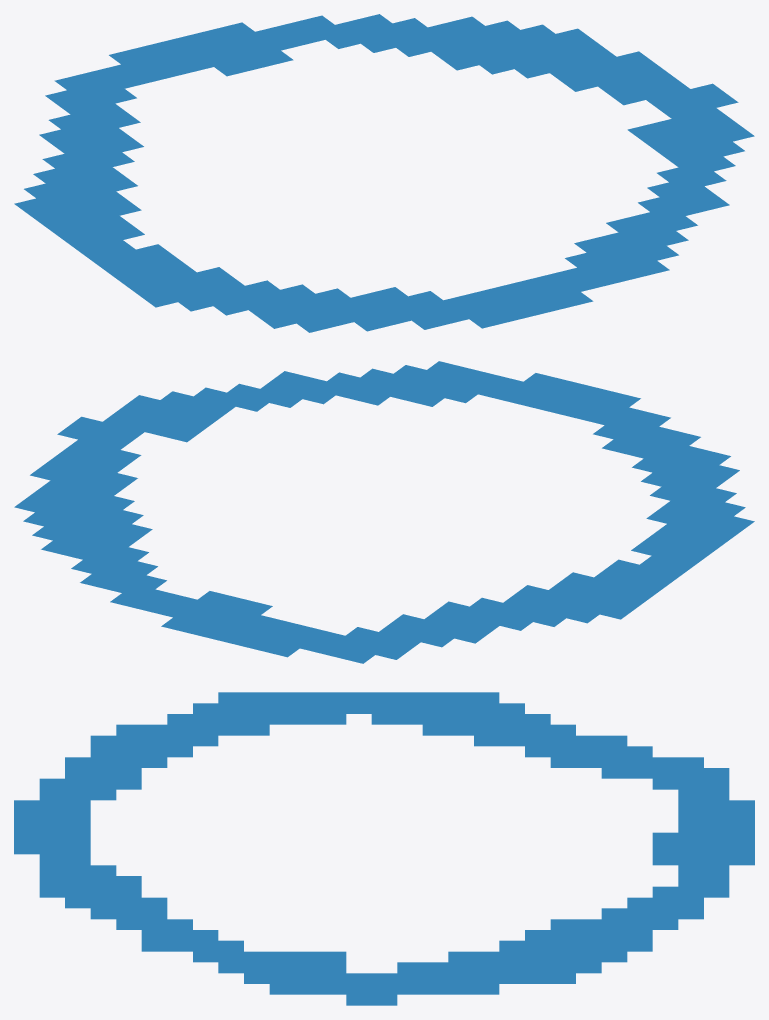
File: Isl-islet3-PlaceForWaterObjects.fbx
3 renders of one model, top to bottom at view 1: azimuth 30°, elevation 25°; view 2: azimuth 150°, elevation 25°; view 3: azimuth 270°, elevation 25°, orthographic. The views are drawn at different scales.
Visible parts, largest first — view 1: Isl-islet3-PlaceForWaterObjects; view 2: Isl-islet3-PlaceForWaterObjects; view 3: Isl-islet3-PlaceForWaterObjects.
Boxes of the visible parts, x1=… form: Isl-islet3-PlaceForWaterObjects: x1=14, y1=14, x2=754, y2=332; Isl-islet3-PlaceForWaterObjects: x1=14, y1=361, x2=754, y2=663; Isl-islet3-PlaceForWaterObjects: x1=14, y1=692, x2=754, y2=1005.
Size of the model in its own units: 29 by 0 by 29.
